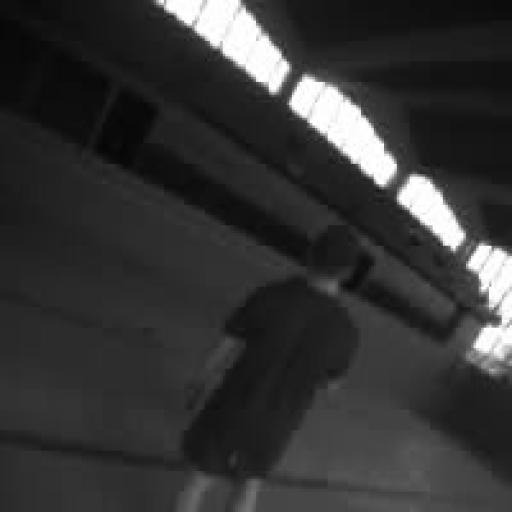human: (177, 226, 360, 511)
